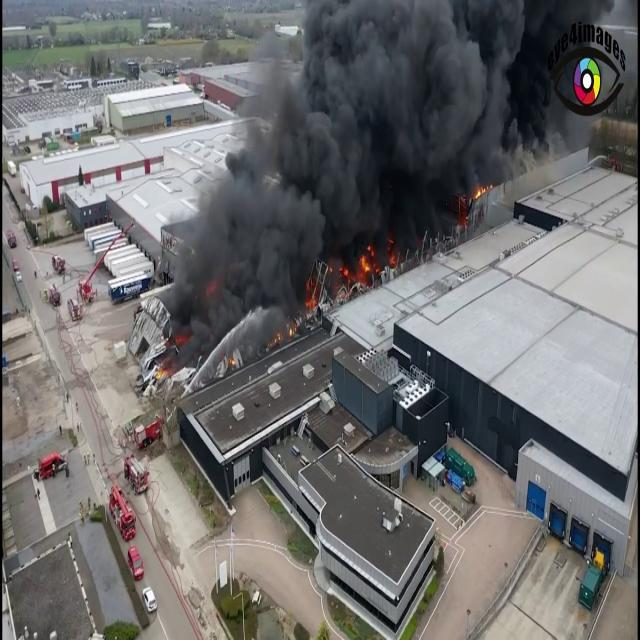Smoke: (166, 2, 558, 205), (164, 7, 378, 360)
